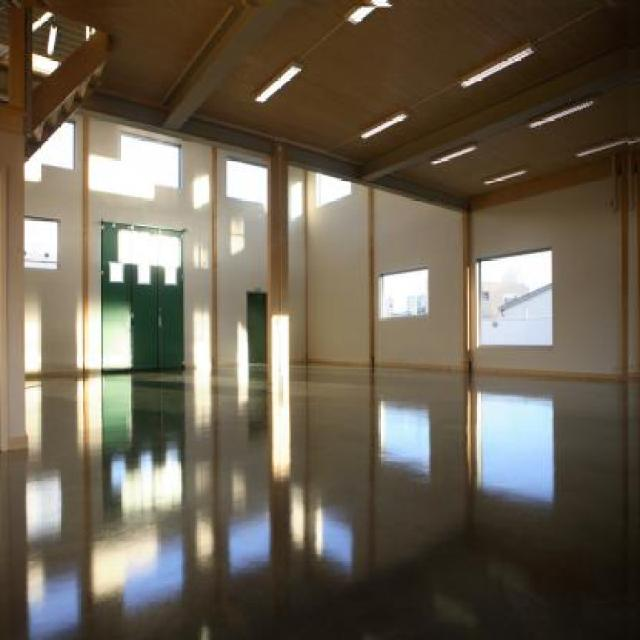stair: (23, 34, 111, 166)
